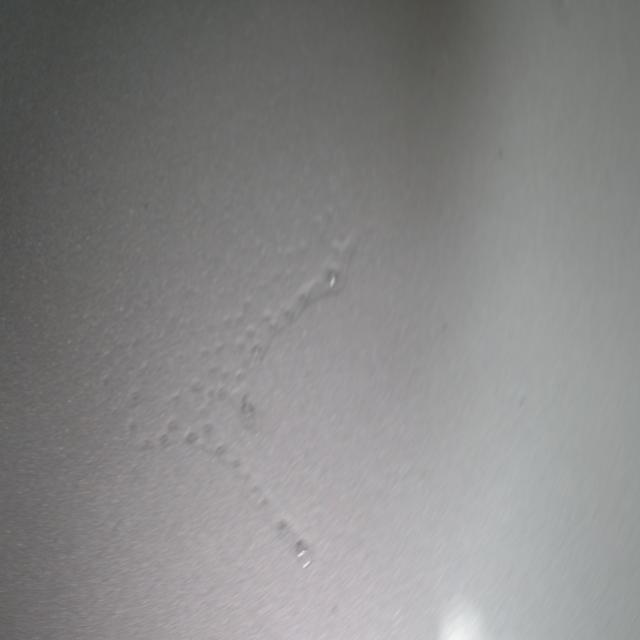runs: (123, 221, 369, 572)
